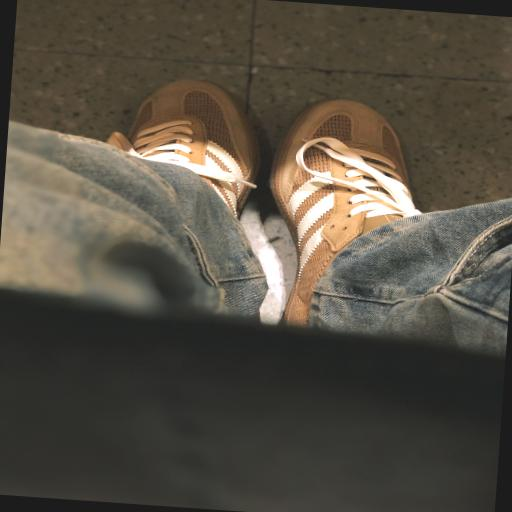shoe: (270, 100, 417, 324), (107, 80, 258, 216)
